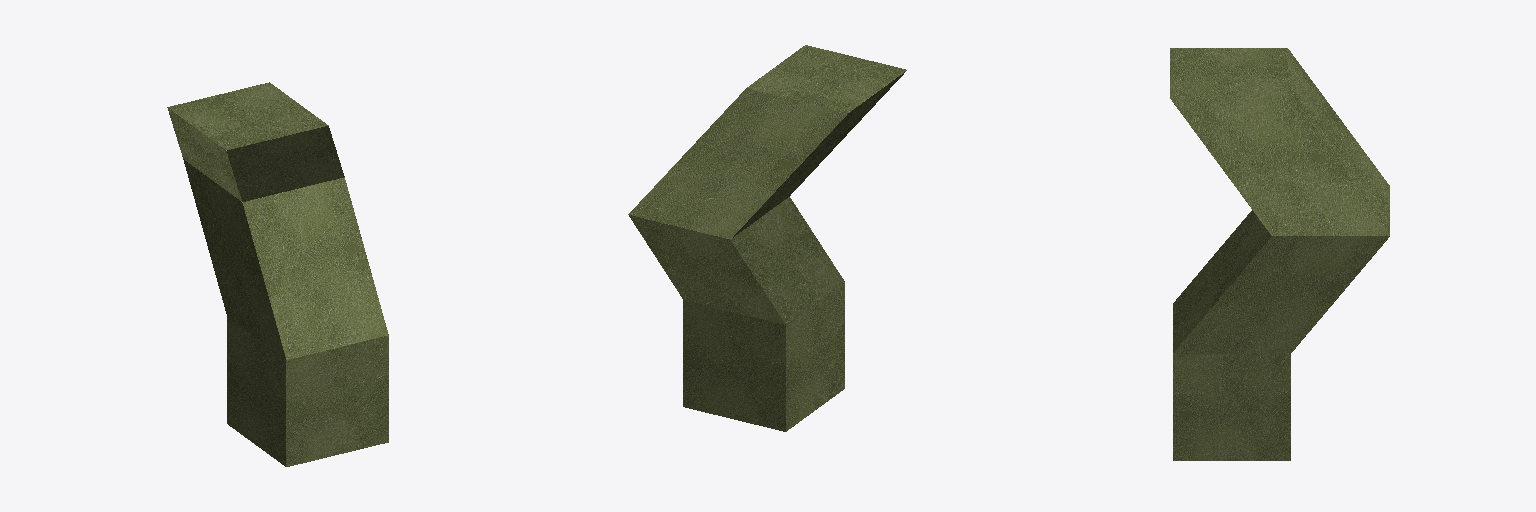
The picture shows the model from 3 angles: view 1: azimuth 30°, elevation 25°; view 2: azimuth 150°, elevation 25°; view 3: azimuth 270°, elevation 25°; orthographic projection.
Visible parts, largest first — view 1: Cube_Cube.001; view 2: Cube_Cube.001; view 3: Cube_Cube.001.
Part boxes in pixels (x1,y1,x2,y2): Cube_Cube.001: (167, 82, 388, 466); Cube_Cube.001: (628, 45, 906, 431); Cube_Cube.001: (1170, 48, 1389, 460).
Size of the model in its own units: 3.31 by 6.21 by 3.73.
Materials: 1 (1 with a texture image).